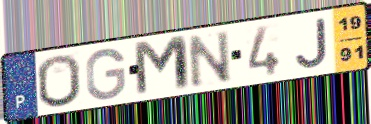4: (246, 23, 283, 78)
G: (84, 47, 128, 102)
J: (292, 15, 330, 70)
M: (131, 33, 194, 100)
N: (185, 28, 234, 90)
O: (35, 53, 84, 110)
